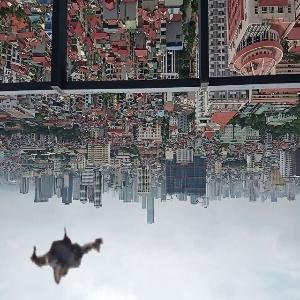drone: (17, 207, 110, 300)
